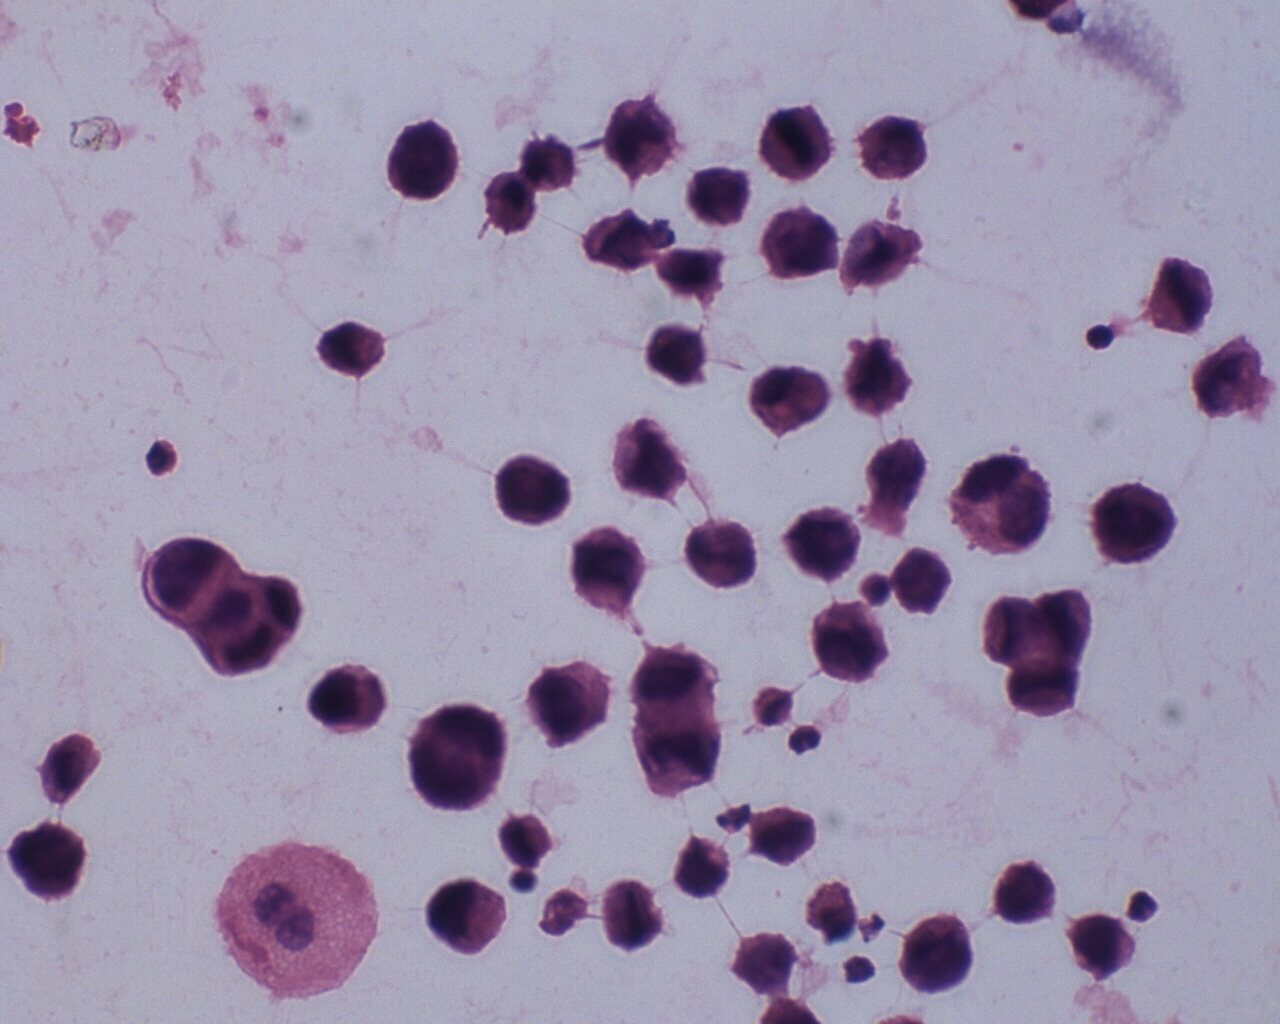ab: (403, 703, 511, 815), (1091, 475, 1179, 572), (530, 653, 612, 750), (421, 872, 507, 963), (1185, 332, 1270, 422), (7, 818, 94, 904), (568, 520, 647, 613), (494, 447, 578, 532), (810, 601, 888, 689), (899, 910, 974, 1000), (604, 95, 683, 180), (758, 206, 846, 281), (757, 96, 833, 183), (304, 661, 389, 739), (779, 501, 856, 584), (382, 118, 456, 205), (1148, 248, 1217, 338), (598, 872, 671, 956), (844, 336, 916, 418), (859, 109, 927, 189), (646, 321, 715, 396), (1065, 915, 1137, 981), (749, 805, 820, 870), (995, 858, 1060, 928), (676, 835, 734, 902)
histo: (214, 828, 383, 1005)
lymph: (1080, 319, 1119, 360)
neutro: (784, 717, 827, 761)
